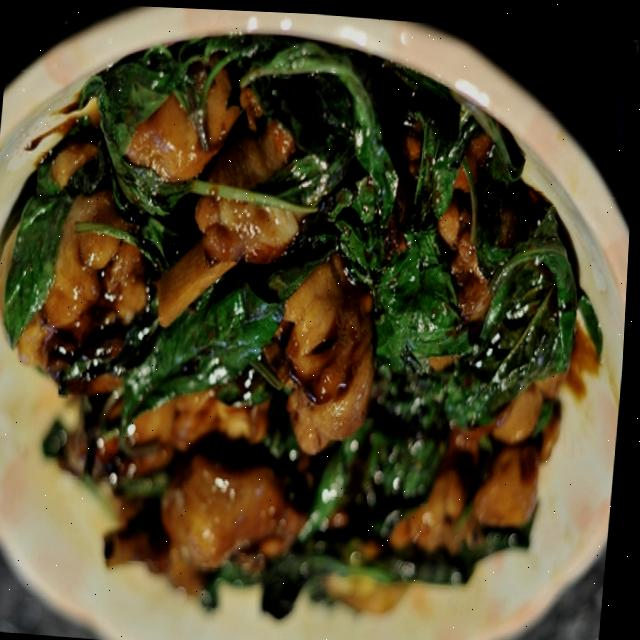鸡肉料理 含炸鸡: (0, 17, 639, 640)
